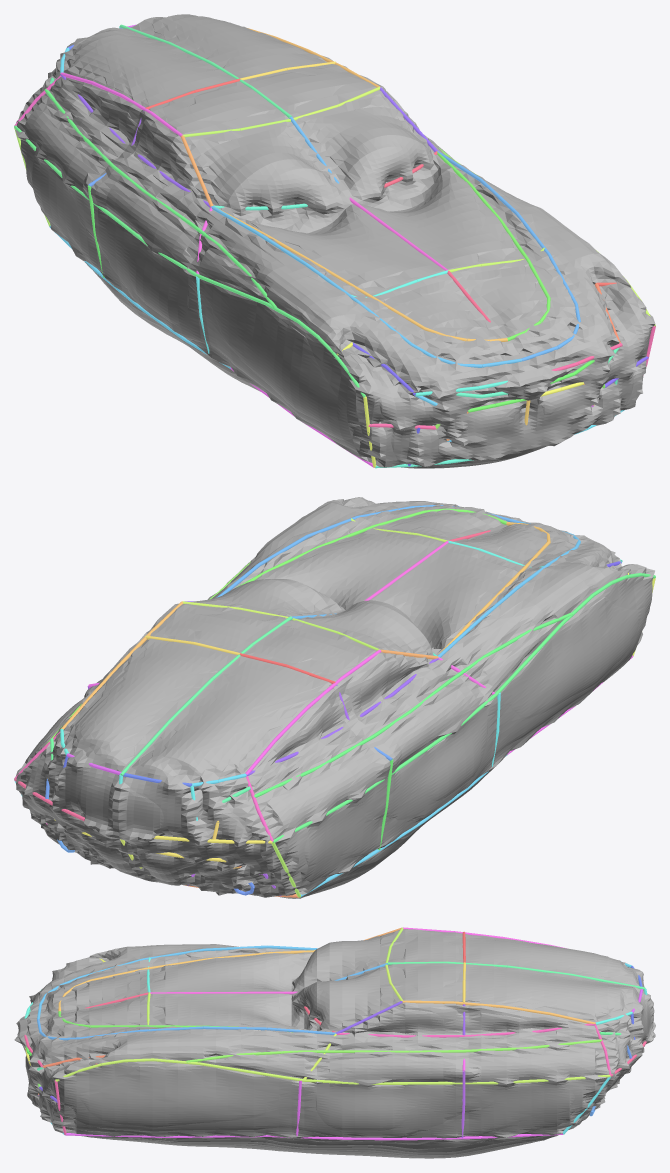
The model's file is ils_car1.gltf.
The picture shows the model from 3 angles, top to bottom: view 1: azimuth 30°, elevation 25°; view 2: azimuth 150°, elevation 25°; view 3: azimuth 270°, elevation 25°; orthographic projection. The views are drawn at different scales.
Bounding box in the file's own units: 0.3936 × 0.2816 × 0.9258.
